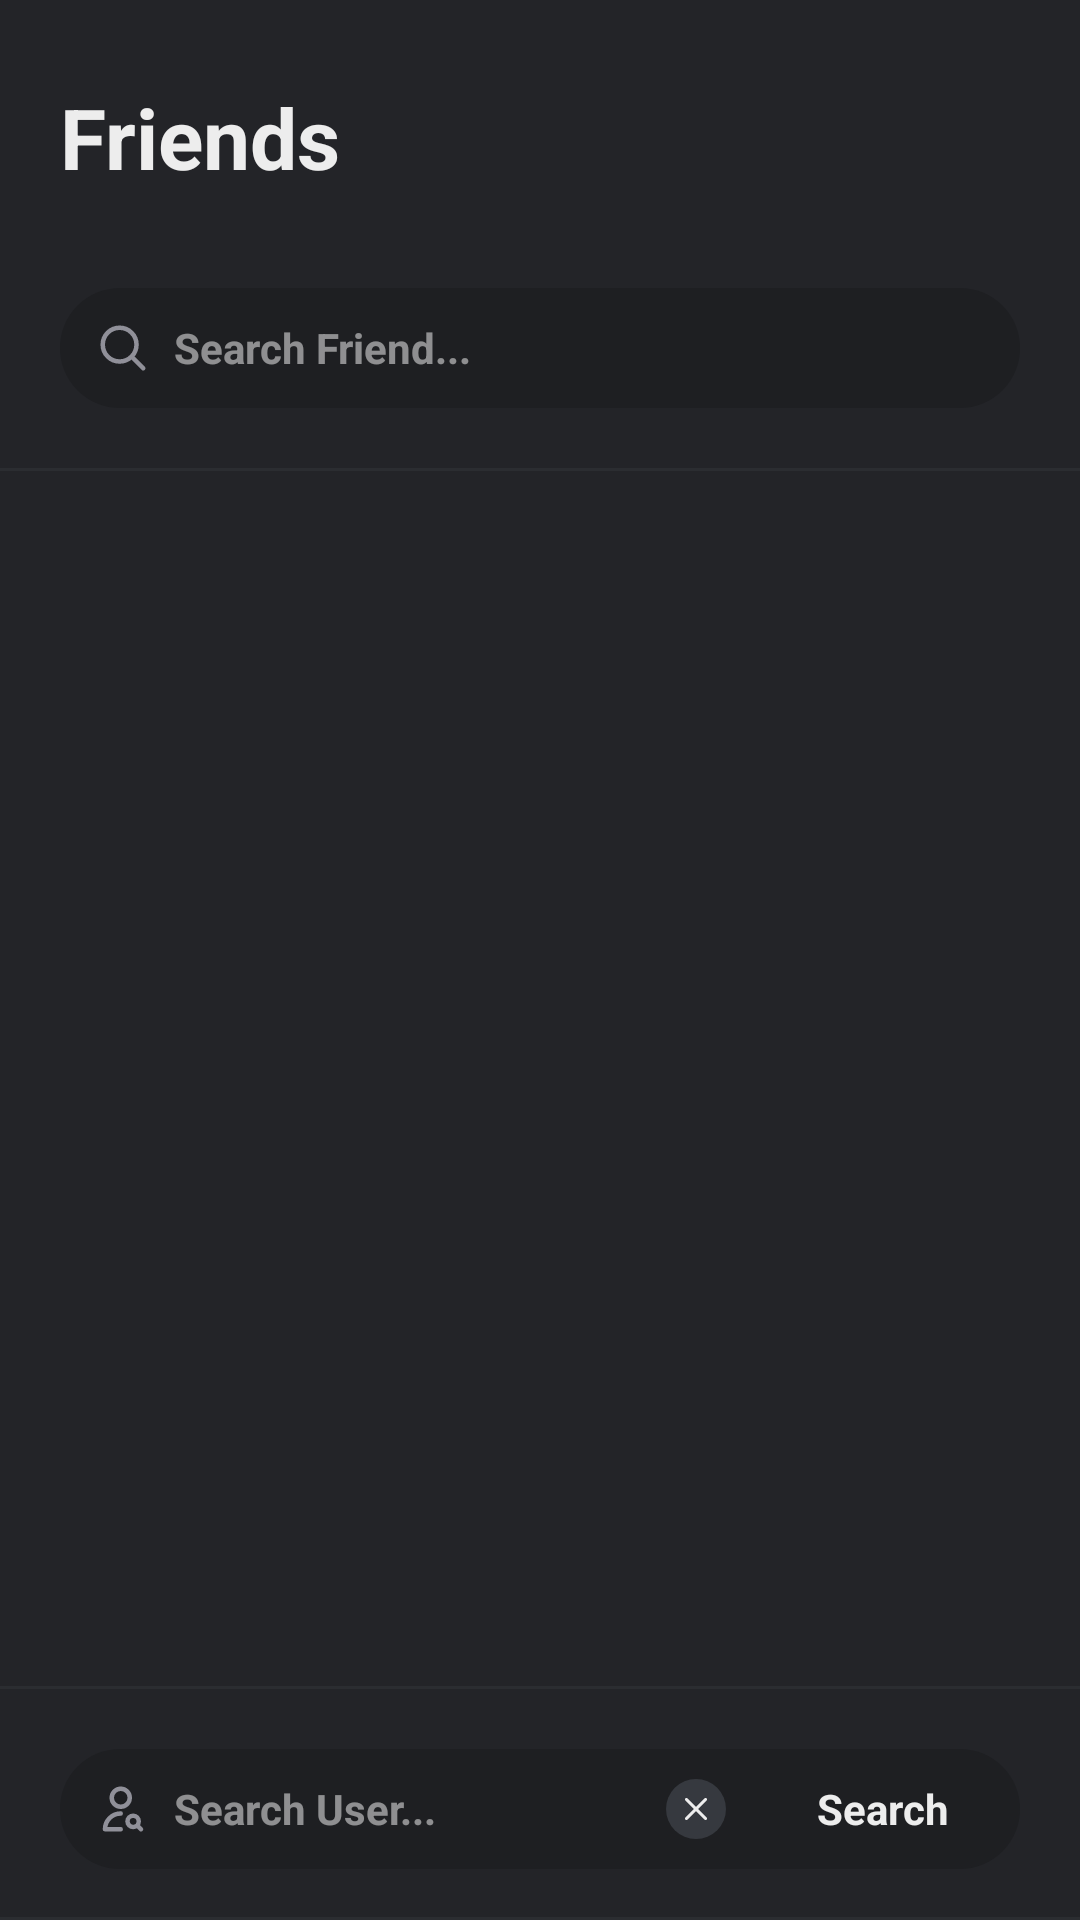

Icons on this 1080×1920 Android screen, each with its box as (x1, y1, x2, y2):
decline: (666, 1779, 726, 1839)
